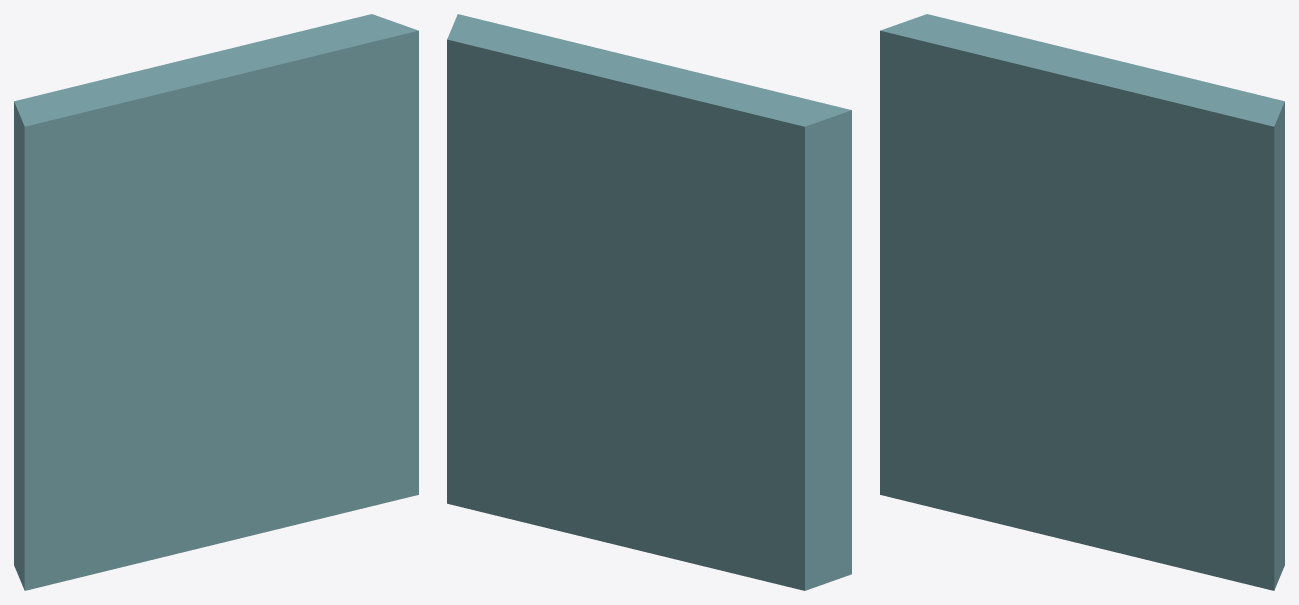
Rendered from wall.fbx.
3 renders of one model, left to right at view 1: azimuth 30°, elevation 25°; view 2: azimuth 150°, elevation 25°; view 3: azimuth 330°, elevation 25°, orthographic.
Parts seen in each view (by area): view 1: wall; view 2: wall; view 3: wall.
Boxes of the visible parts, x1=… form: wall: x1=14, y1=14, x2=418, y2=590; wall: x1=447, y1=14, x2=851, y2=590; wall: x1=880, y1=14, x2=1284, y2=590.
Size of the model in its own units: 684 by 770 by 86.6.
